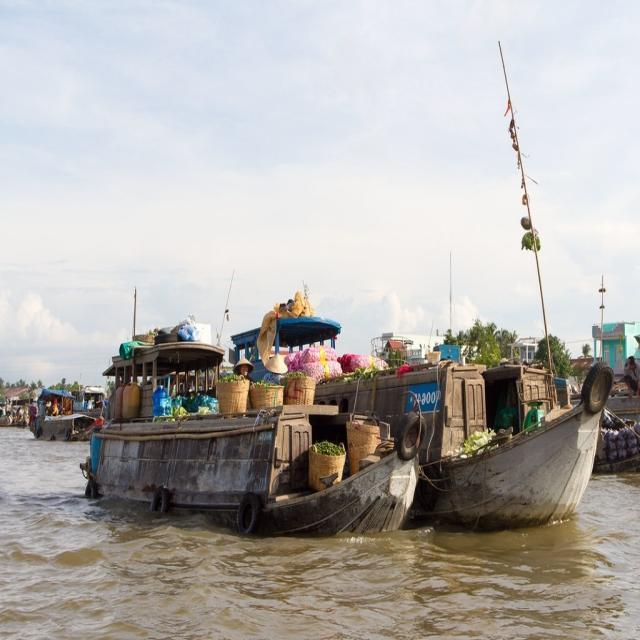boat: (73, 367, 424, 542), (24, 386, 96, 450)
